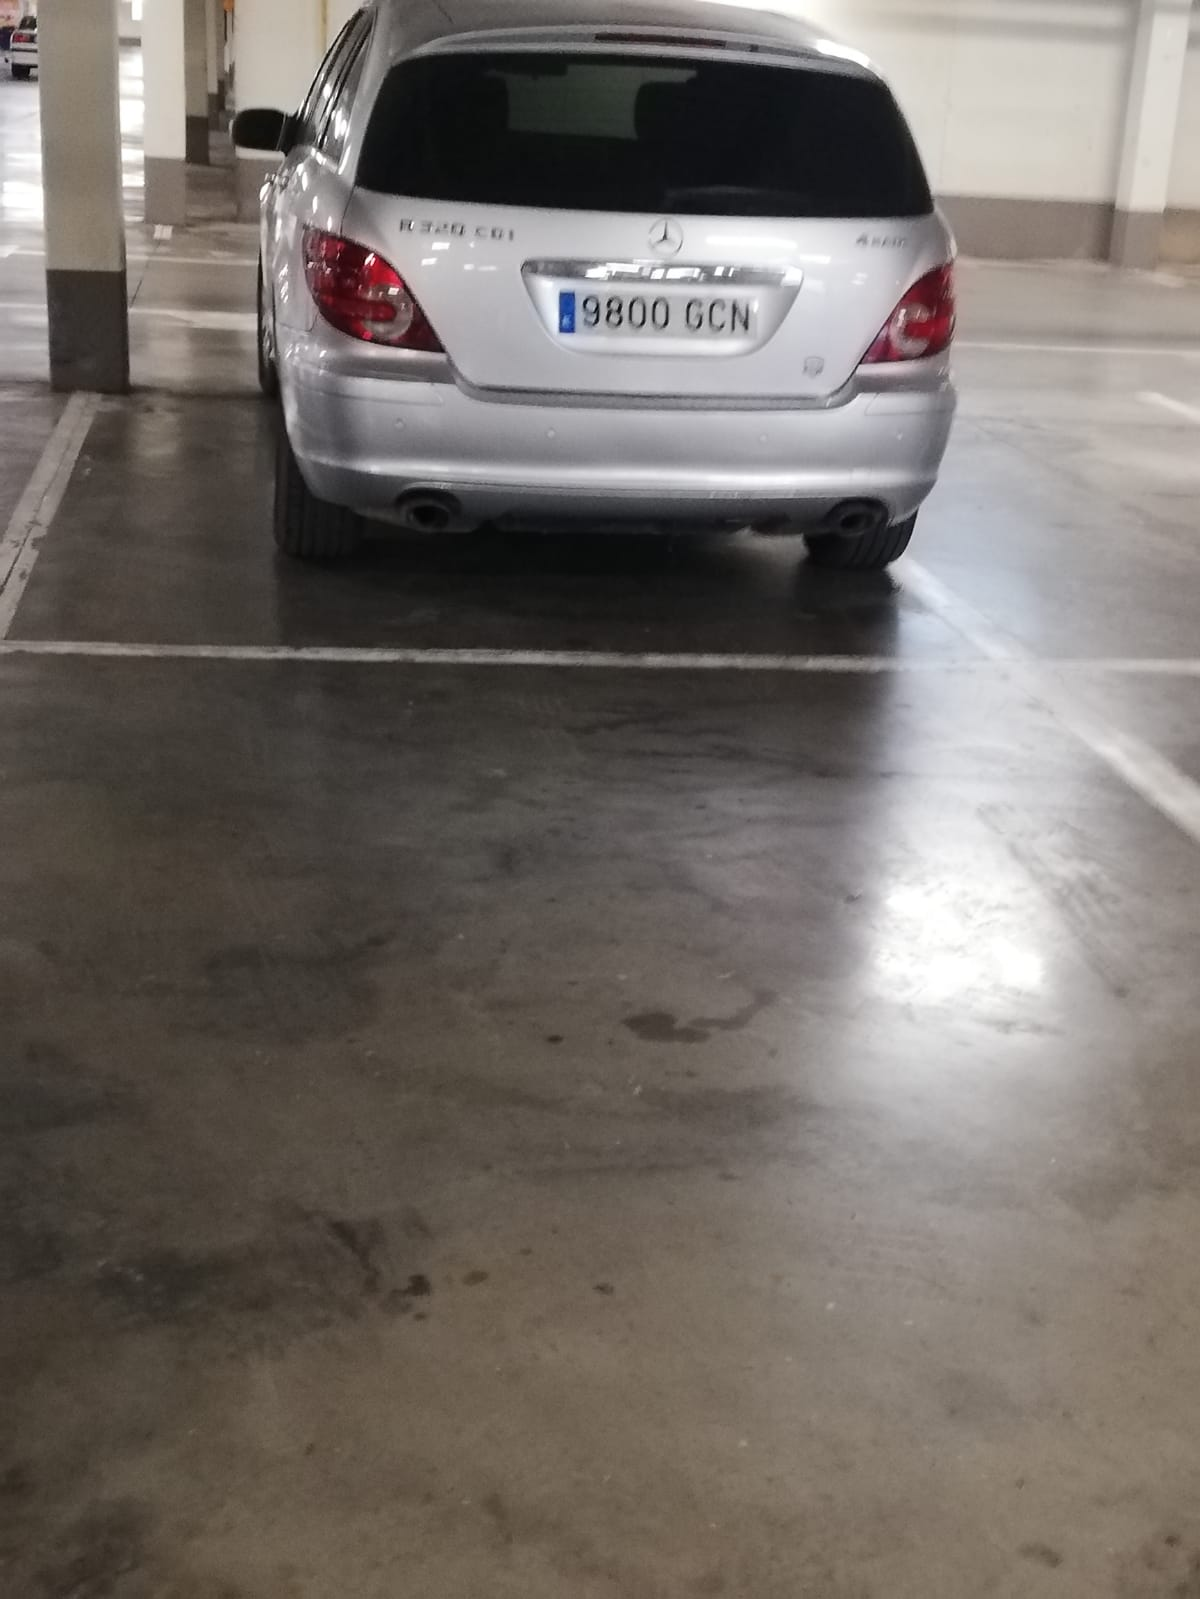Car: (260, 4, 959, 581)
Plate: (556, 289, 757, 345)
